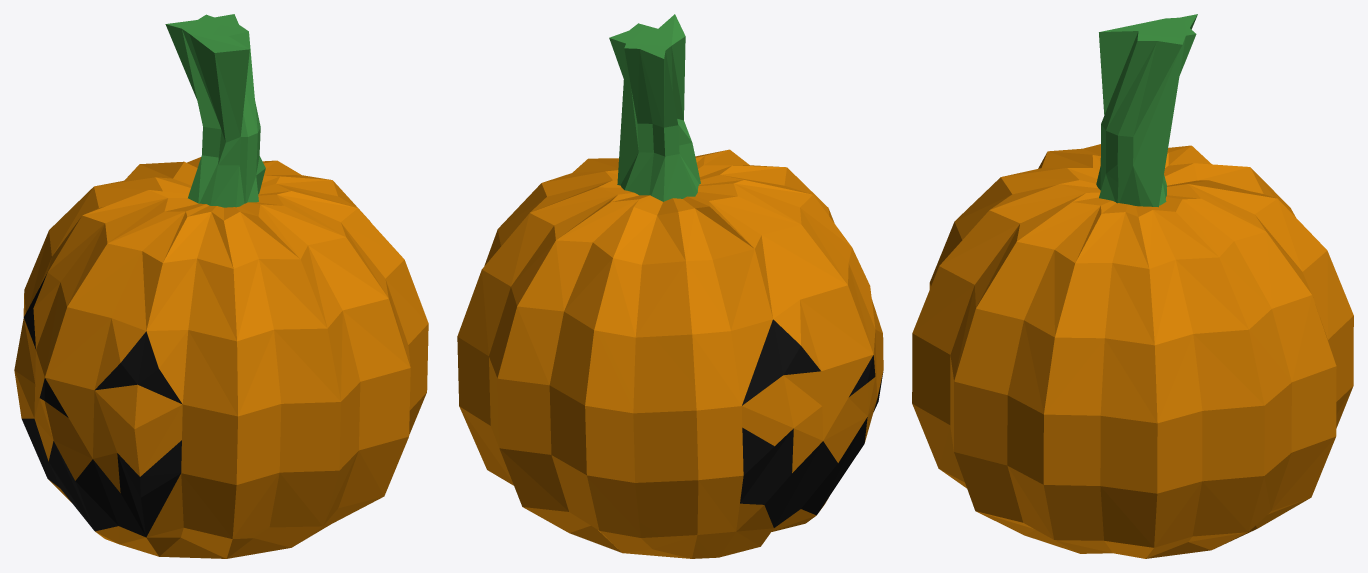
The model's file is CalabazaHo.gltf.
The picture shows the model from 3 angles, left to right: view 1: azimuth 30°, elevation 25°; view 2: azimuth 150°, elevation 25°; view 3: azimuth 270°, elevation 25°; orthographic projection. The views are drawn at different scales.
Visible parts, largest first — view 1: node_MeshObject-1588386816-PolyPaper13; view 2: node_MeshObject-1588386816-PolyPaper13; view 3: node_MeshObject-1588386816-PolyPaper13.
Boxes of the visible parts, x1,y1,x2,y2 form: node_MeshObject-1588386816-PolyPaper13: [14, 14, 428, 558]; node_MeshObject-1588386816-PolyPaper13: [457, 14, 883, 558]; node_MeshObject-1588386816-PolyPaper13: [912, 14, 1353, 558].
Size of the model in its own units: 0.48 by 0.5957 by 0.4774.
